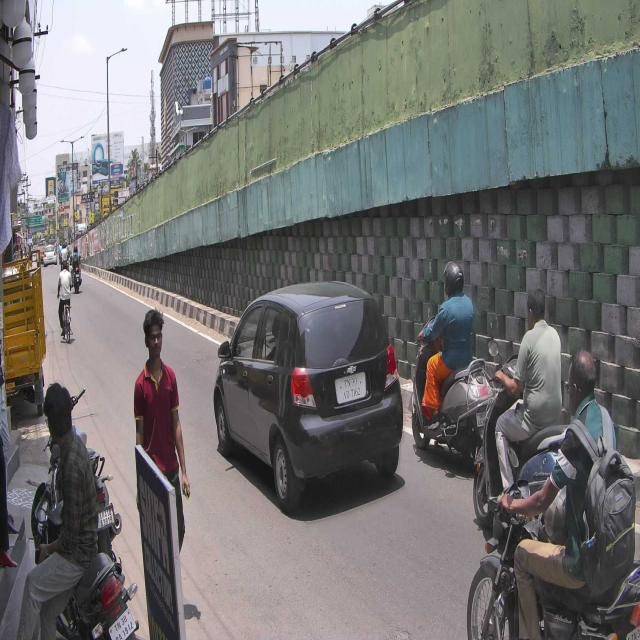single_rider: (466, 350, 640, 640), (410, 258, 488, 460)
